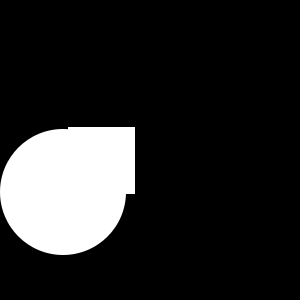circle: (68, 127, 135, 194)
rectangle: (0, 129, 126, 255)
